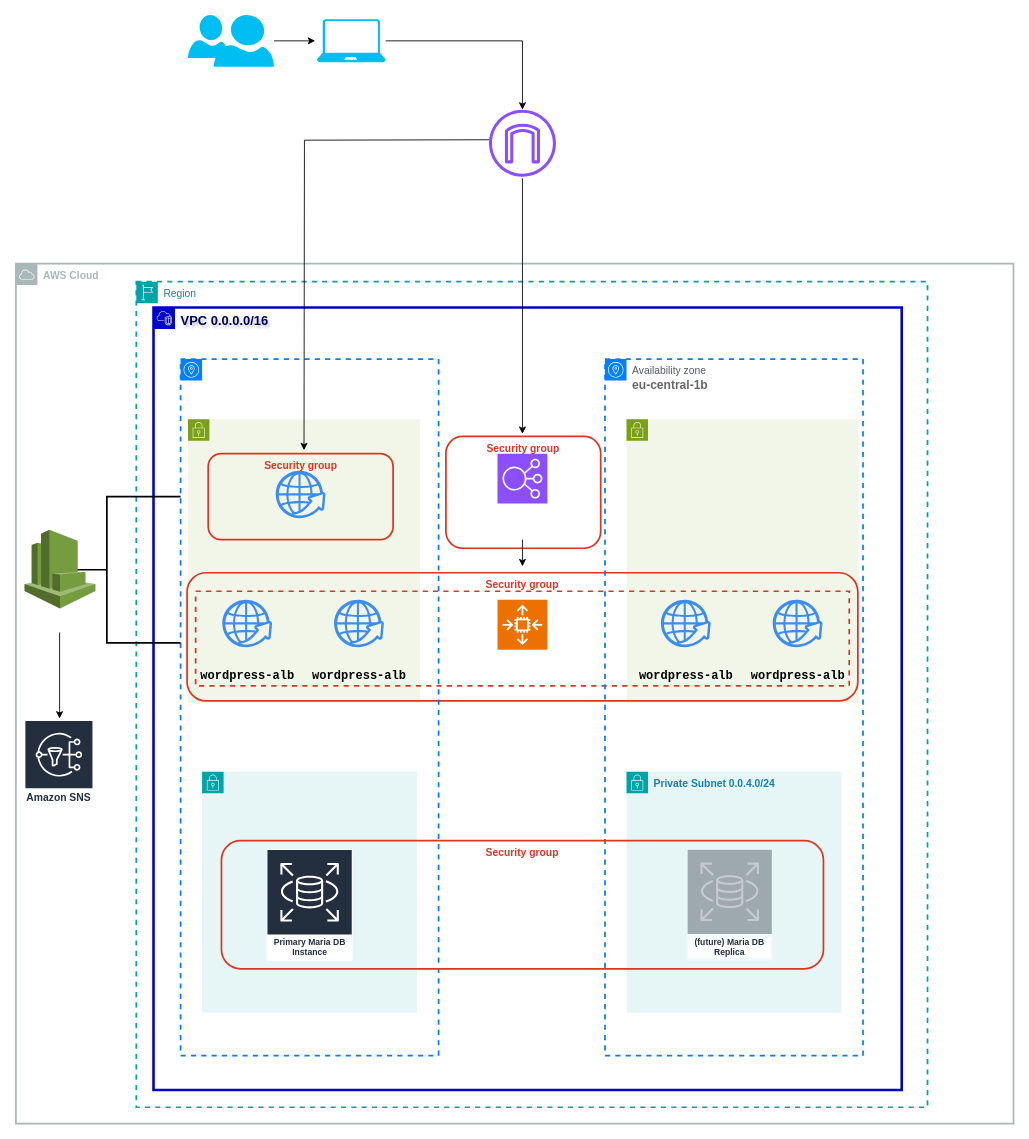
The diagram is 1029 pixels wide and 1139 high, and some of its shapes have lost their labels. Here are the shapes that lost their labels. From the top down, the box of each, then its label:
(275, 470, 325, 518): WordPress Primary Instance
(497, 453, 547, 504): Elastic Load Balancer
(24, 529, 95, 608): CloudWatch
(187, 418, 420, 703): Public subnet 0.0.1.0/24
(626, 418, 859, 703): Public subnet 0.0.3.0/24
(497, 599, 547, 650): Auto Scaling Group
(179, 358, 439, 1056): Availability zone eu-central-1a
(201, 771, 417, 1013): Private Subnet 0.0.2.0/24
